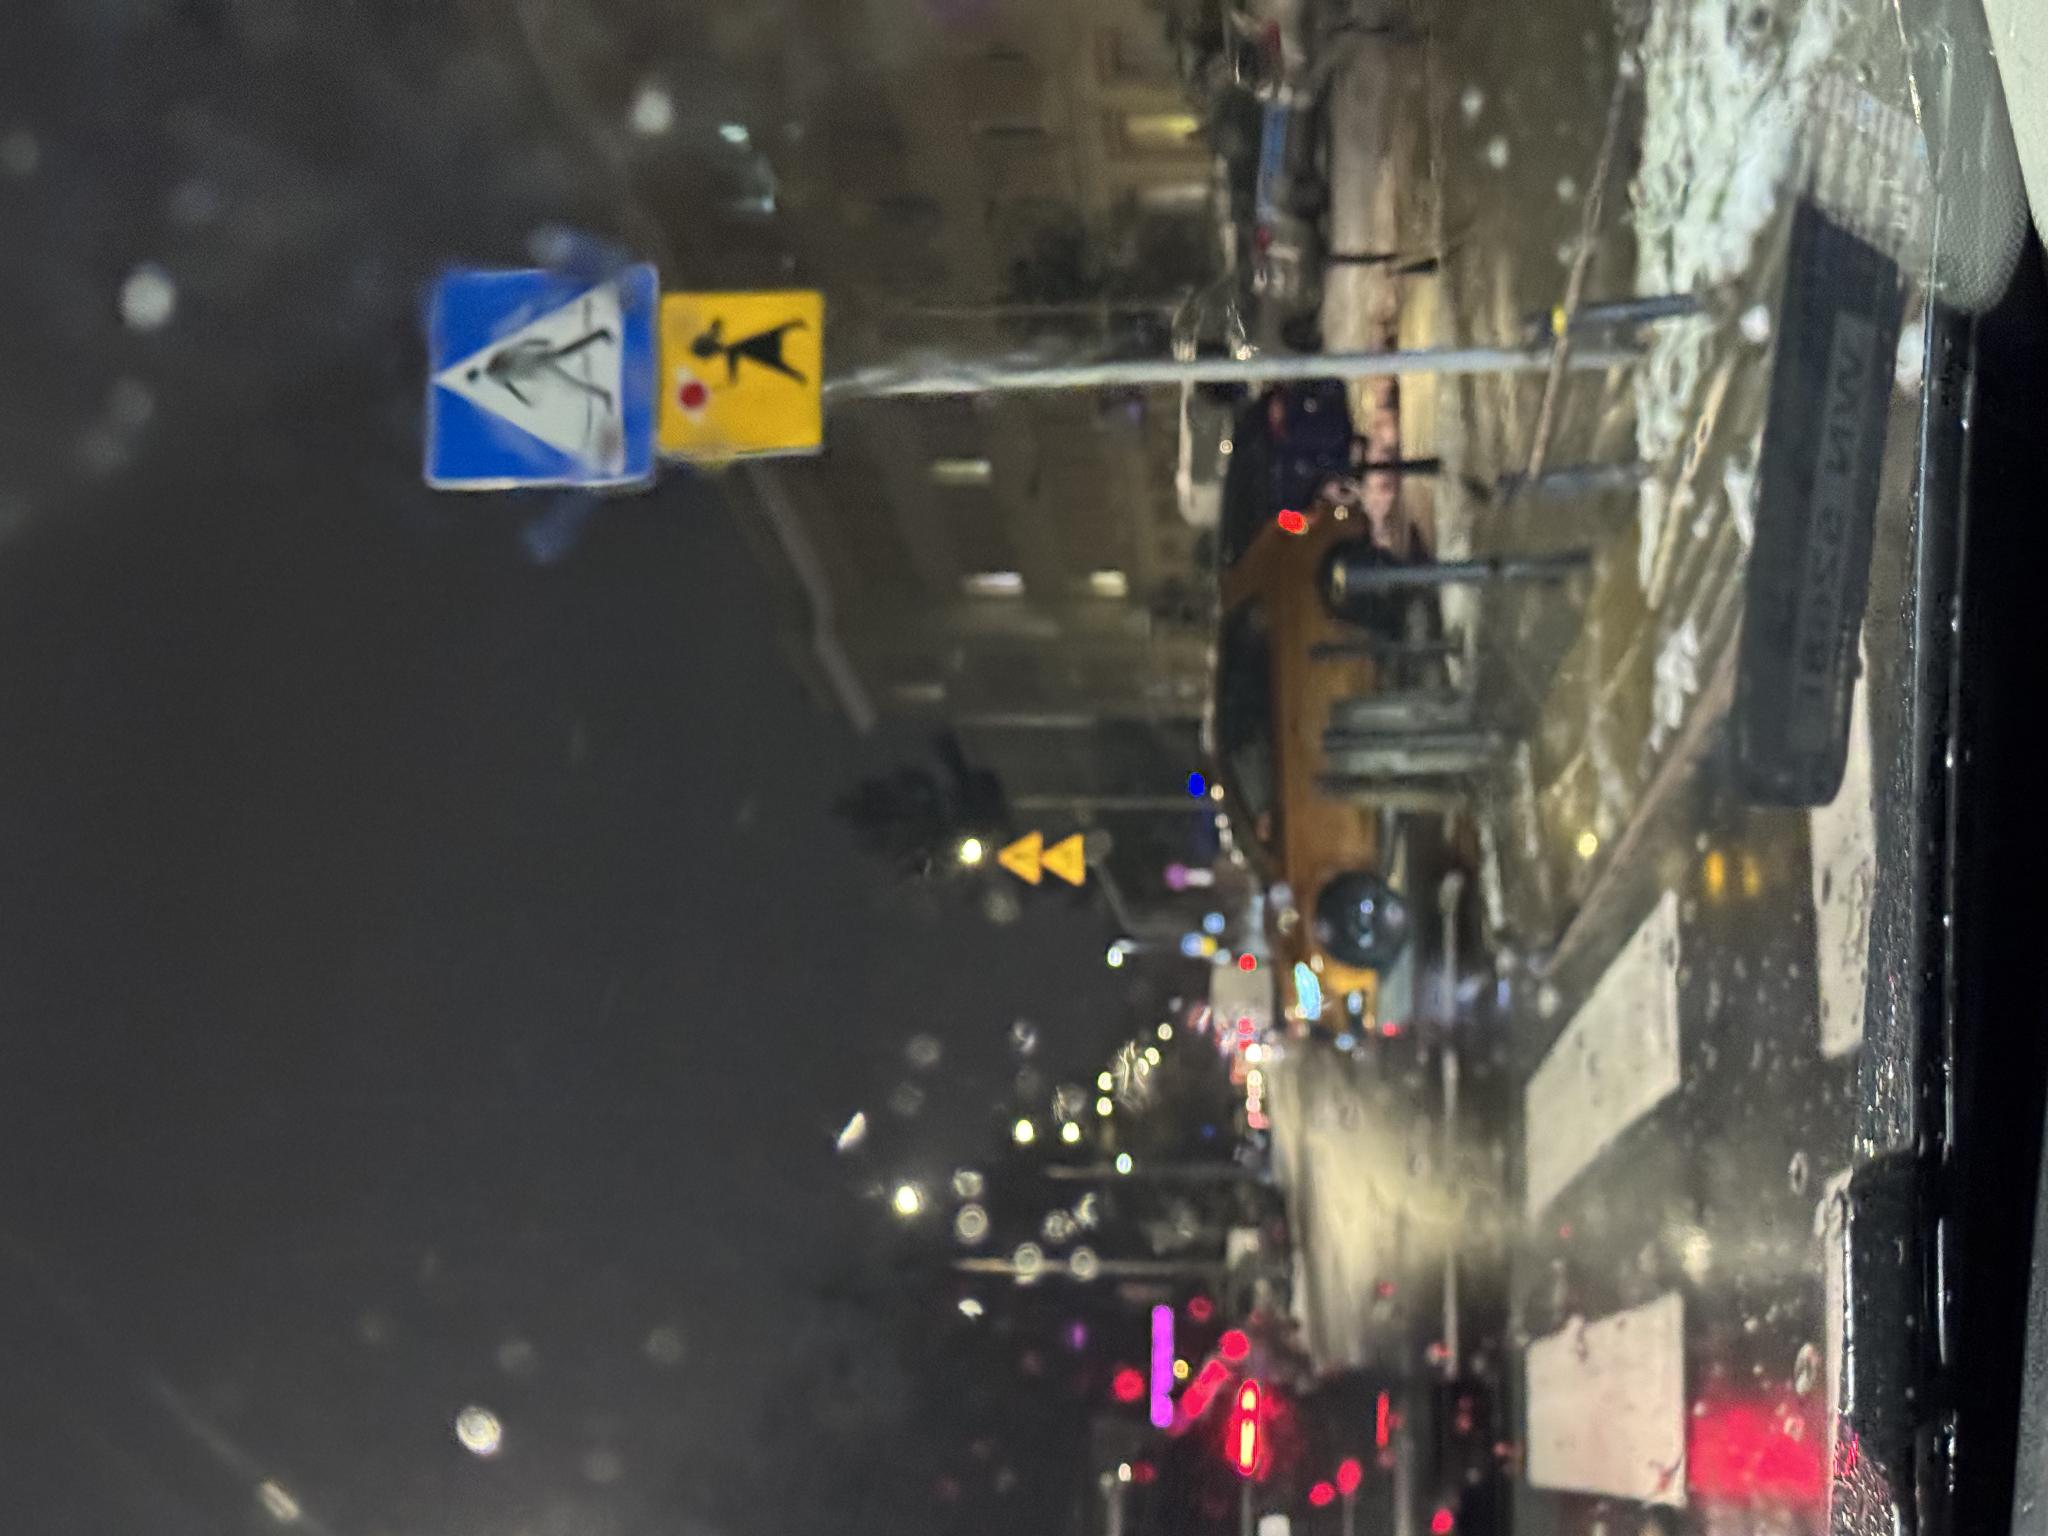information: (1043, 423, 1280, 660)
other: (1076, 653, 1247, 823)
warning: (650, 1042, 706, 1086), (653, 997, 705, 1042)
